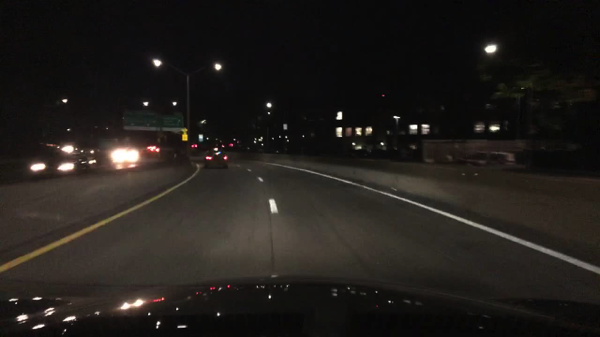car: (27, 154, 89, 177), (110, 147, 142, 167), (203, 147, 230, 169), (146, 143, 162, 156), (190, 141, 198, 152)
traffic sign: (123, 109, 159, 132), (161, 111, 183, 132), (182, 135, 189, 143), (182, 127, 188, 133)
